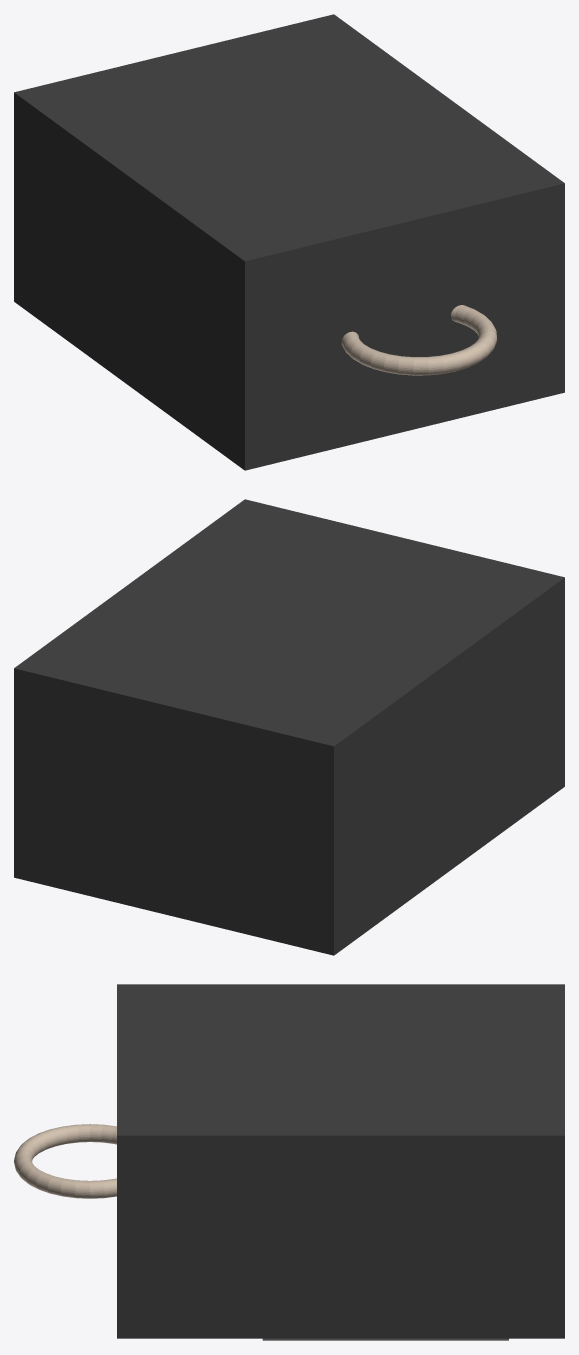
The model's file is amplifier.glb.
3 views of the same model, one above another, from view 1: azimuth 30°, elevation 25°; view 2: azimuth 150°, elevation 25°; view 3: azimuth 270°, elevation 25° (orthographic). The views are drawn at different scales.
Visible parts, largest first — view 1: world; view 2: world; view 3: world.
Boxes of the visible parts, x1,y1,x2,y2 form: world: (14, 14, 564, 470); world: (14, 499, 564, 955); world: (14, 984, 564, 1340).
Bounding box in the file's own units: 0.8 × 0.55 × 1.23.
